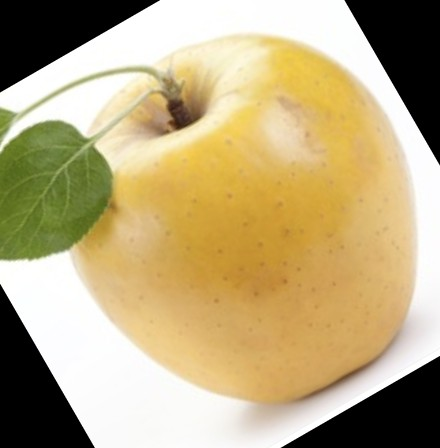normal_apple: (67, 36, 413, 402)
